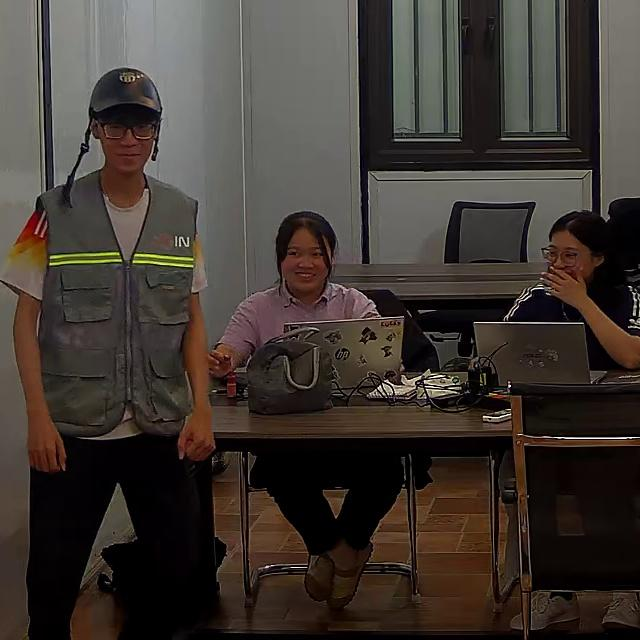helmet: (88, 67, 164, 119)
no_helmet: (549, 211, 627, 305), (274, 211, 337, 288)
none: (214, 279, 383, 374), (501, 279, 640, 371)
vest: (35, 178, 195, 436)
